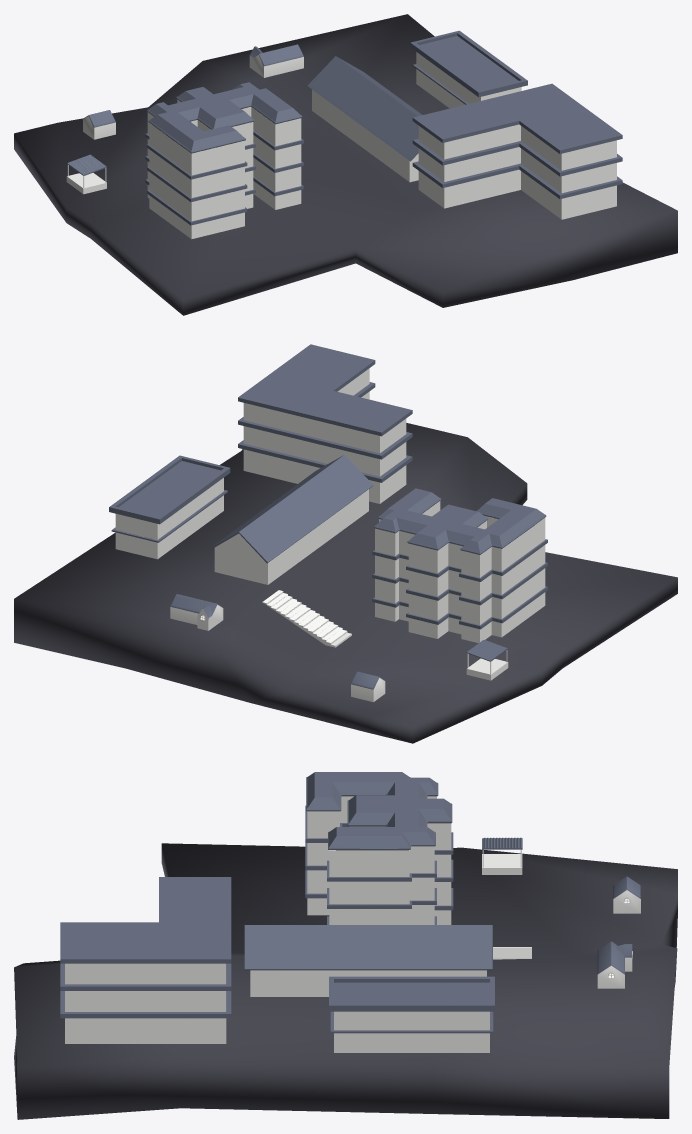
File: sctce-transformed.glb
The picture shows the model from 3 angles, top to bottom: view 1: azimuth 30°, elevation 25°; view 2: azimuth 150°, elevation 25°; view 3: azimuth 270°, elevation 25°; orthographic projection. The views are drawn at different scales.
Parts seen in each view (by area): view 1: ground, auditorium; view 2: ground, auditorium; view 3: ground, auditorium.
Boxes of the visible parts, left/top/right/bottom form: ground: left=14, top=14, right=677, bottom=315; auditorium: left=66, top=30, right=622, bottom=239; ground: left=14, top=423, right=677, bottom=743; auditorium: left=109, top=344, right=547, bottom=702; ground: left=14, top=843, right=677, bottom=1119; auditorium: left=60, top=772, right=640, bottom=1052.
Bounding box in the file's own units: 0.124 × 0.0311 × 0.1352.
4 materials, 4 textured.
